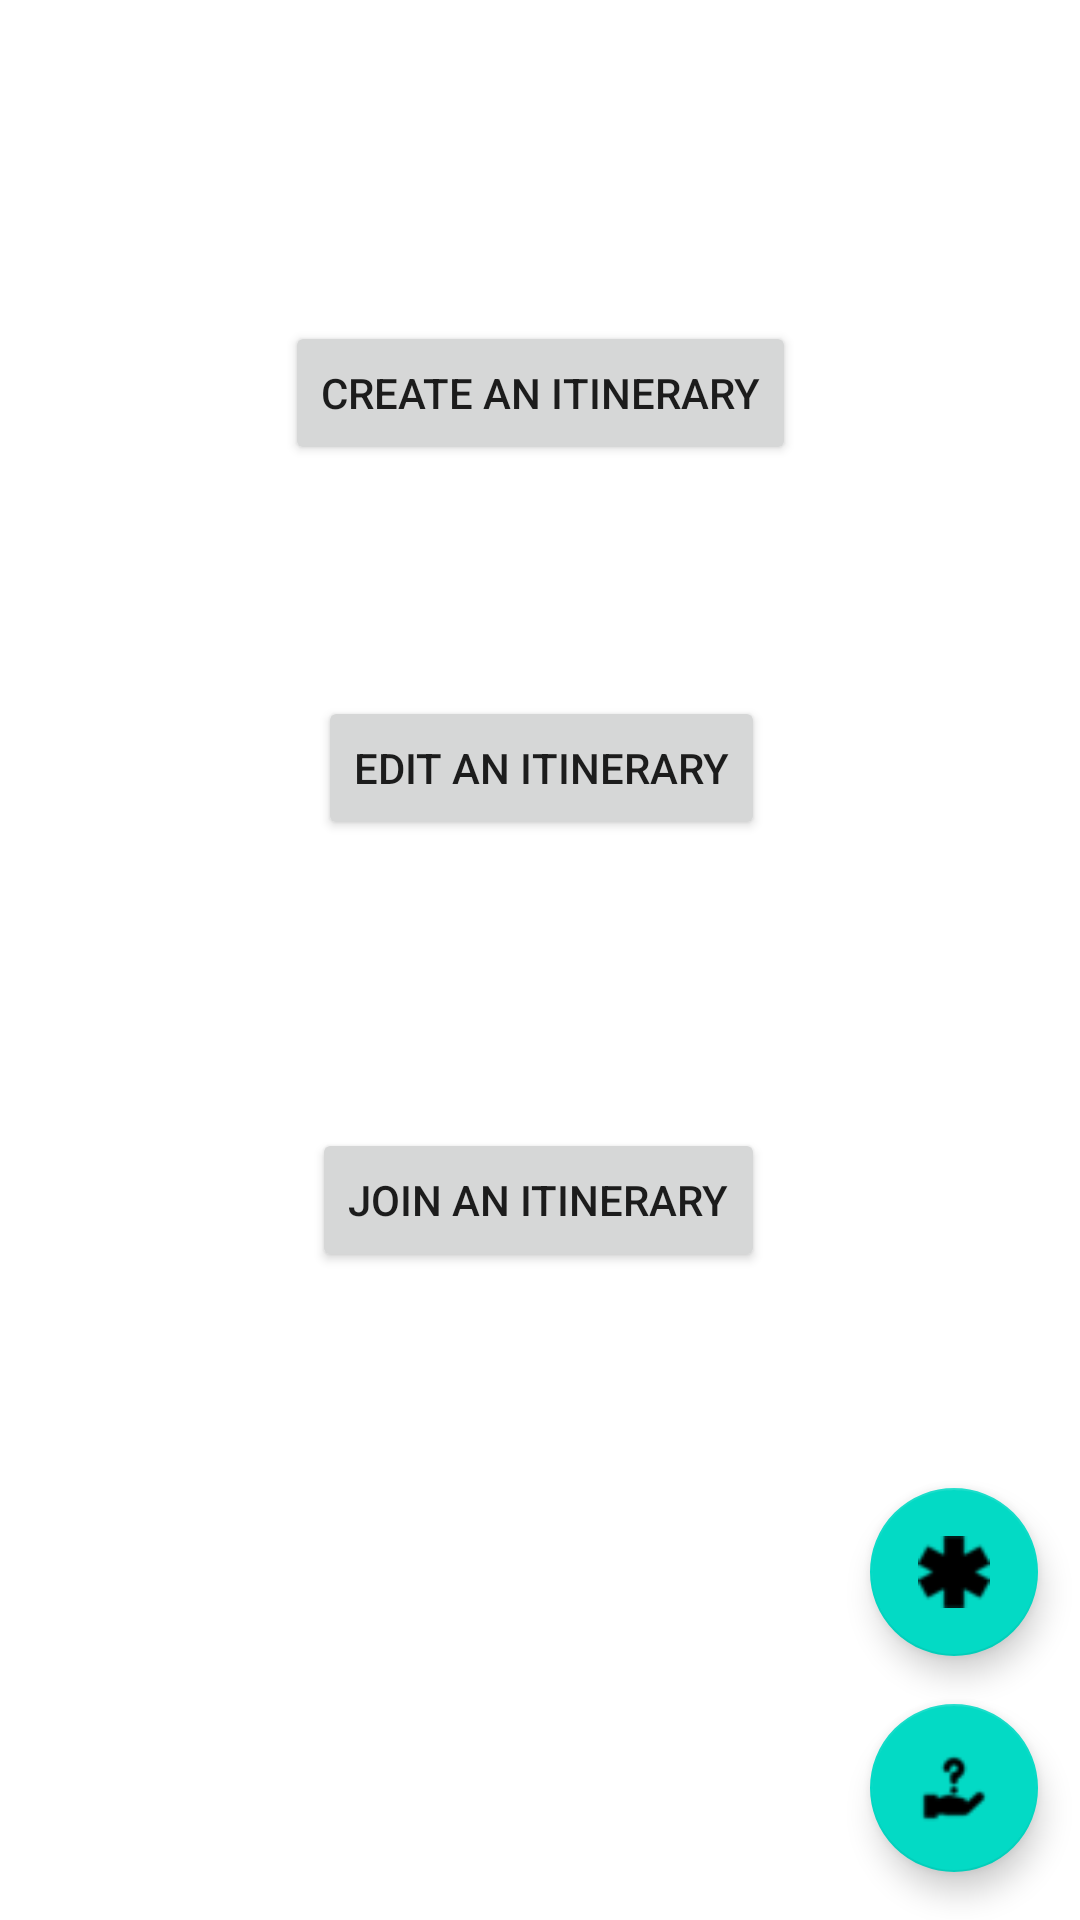

Named icons in this screenshot (1080px x 1920px) and their centers, point (x, y):
help: point (954, 1788)
